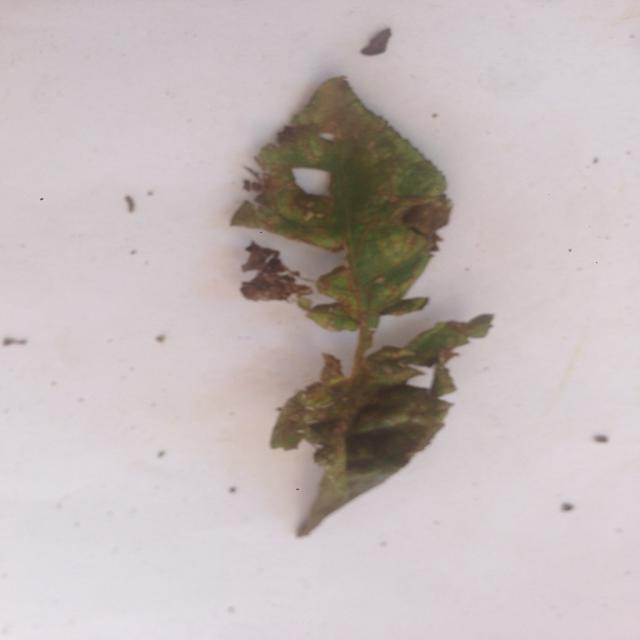Brown Blight: (180, 66, 495, 556)
